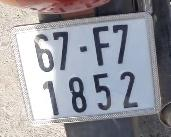1: (41, 78, 61, 117)
2: (118, 70, 140, 110)
5: (92, 72, 113, 112)
6: (33, 32, 54, 73)
7: (53, 29, 72, 72), (112, 23, 130, 65)
8: (66, 76, 89, 114)
F: (92, 24, 111, 68)
